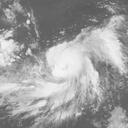cyclone: (37, 43, 98, 103)
